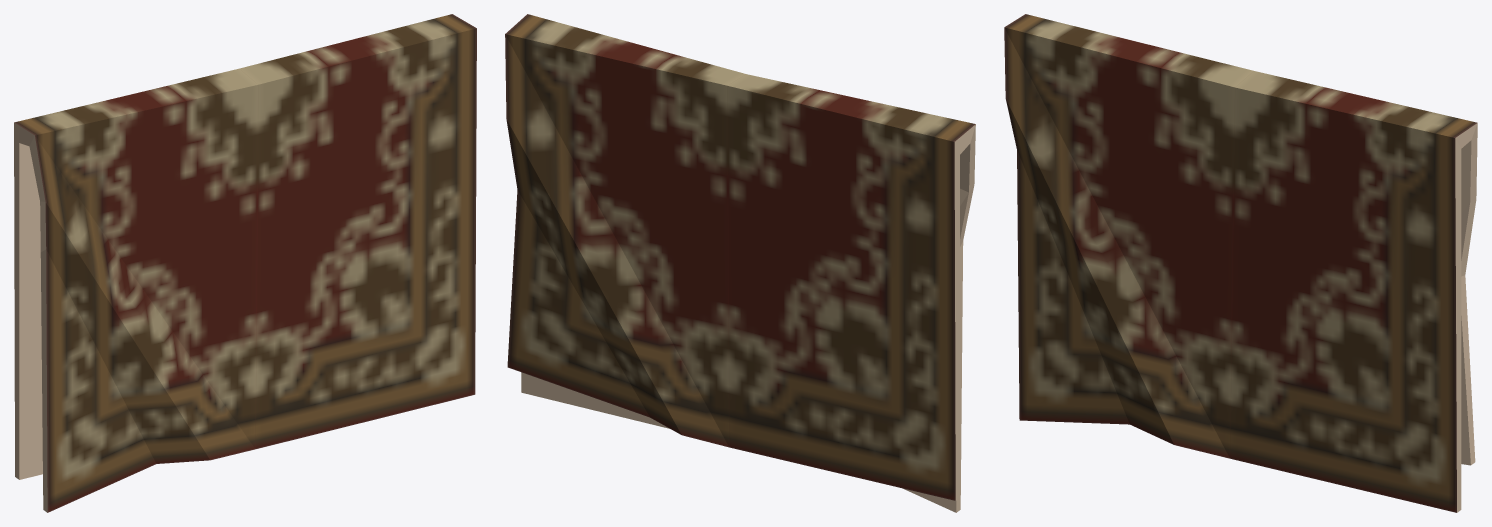
File: SM_Prop_Rug_Hanging_01.fbx
The picture shows the model from 3 angles, left to right: view 1: azimuth 30°, elevation 25°; view 2: azimuth 150°, elevation 25°; view 3: azimuth 330°, elevation 25°; orthographic projection. The views are drawn at different scales.
Visible parts, largest first — view 1: SM_Prop_Rug_Hanging_01; view 2: SM_Prop_Rug_Hanging_01; view 3: SM_Prop_Rug_Hanging_01.
Part boxes in pixels (x1,y1,x2,y2): SM_Prop_Rug_Hanging_01: (14,14,476,512); SM_Prop_Rug_Hanging_01: (505,14,975,512); SM_Prop_Rug_Hanging_01: (1004,14,1477,512).
Bounding box in the file's own units: 197 × 163 × 24.2.
